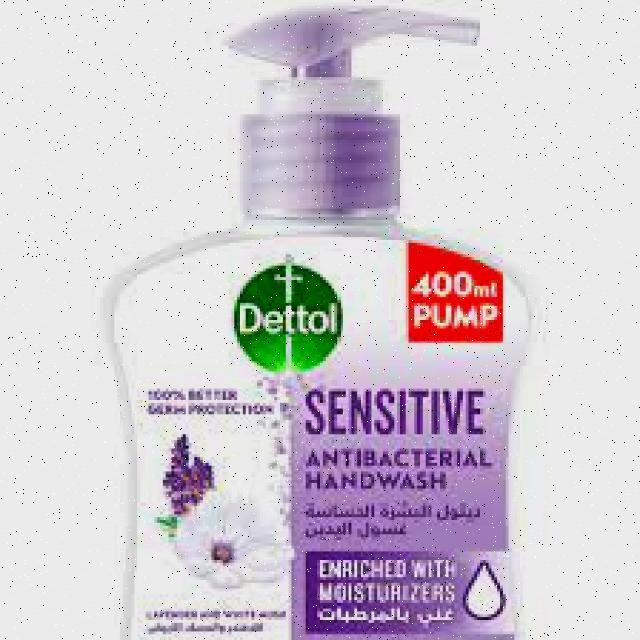liquid soap: (94, 4, 535, 640)
